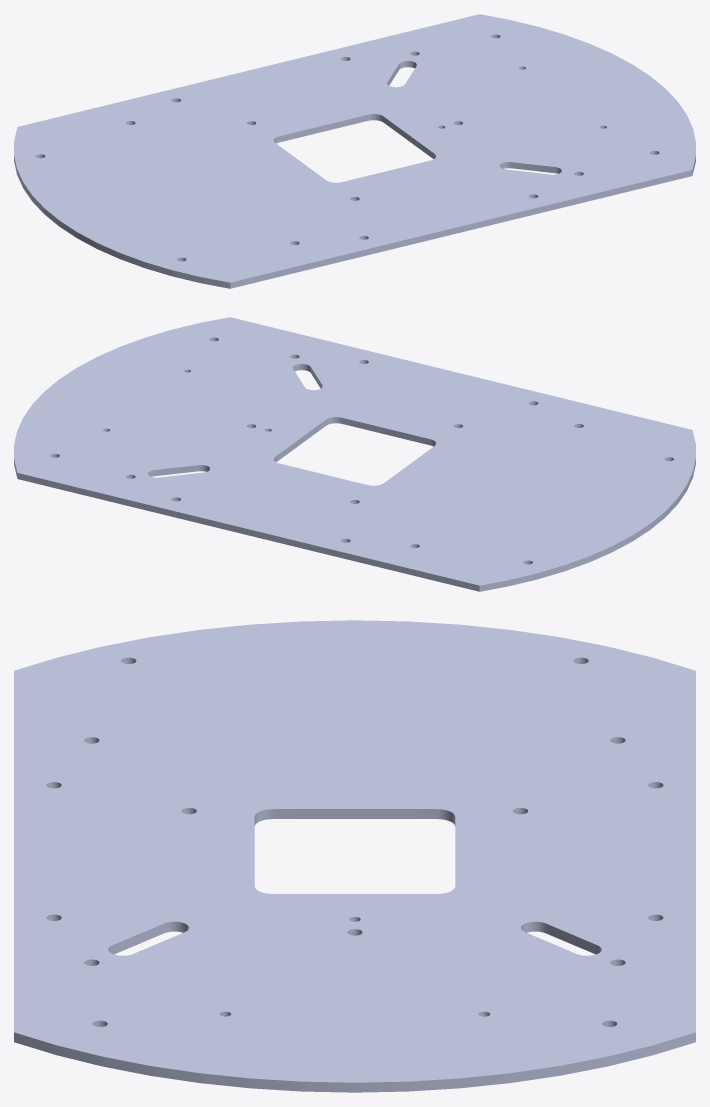
The picture shows the model from 3 angles, top to bottom: view 1: azimuth 30°, elevation 25°; view 2: azimuth 150°, elevation 25°; view 3: azimuth 270°, elevation 25°; orthographic projection. The views are drawn at different scales.
Visible parts, largest first — view 1: node0; view 2: node0; view 3: node0.
Boxes of the visible parts, <box> form: node0: <box>14,14,695,288</box>; node0: <box>14,317,695,591</box>; node0: <box>14,620,695,1092</box>.
Size of the model in its own units: 0.3 by 0.003 by 0.187.
